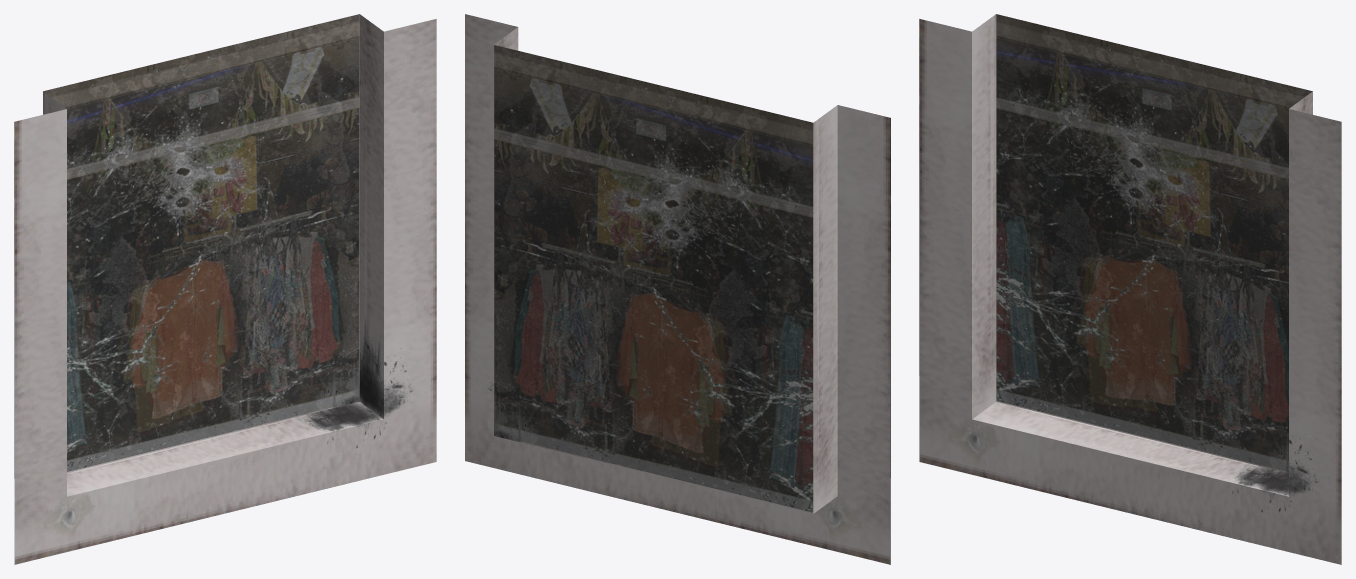
File: shop_rec1.obj
3 views of the same model, side by side, from view 1: azimuth 30°, elevation 25°; view 2: azimuth 150°, elevation 25°; view 3: azimuth 330°, elevation 25° (orthographic).
Visible parts, largest first — view 1: polySurface139 group; view 2: polySurface139 group; view 3: polySurface139 group.
Part boxes in pixels (bbox=[...]): polySurface139 group: bbox=[14, 14, 436, 564]; polySurface139 group: bbox=[465, 14, 890, 564]; polySurface139 group: bbox=[919, 14, 1341, 564].
Bounding box in the file's own units: 2.04 × 2.04 × 0.2017.
Materials: 1 (1 with a texture image).
